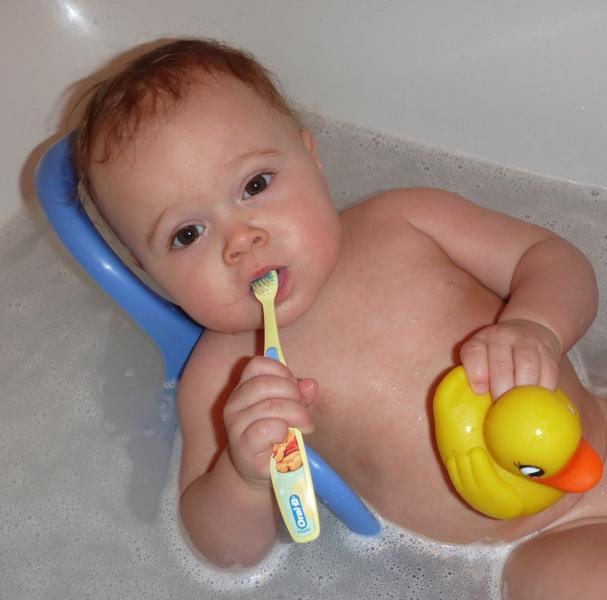person: (67, 38, 602, 598)
